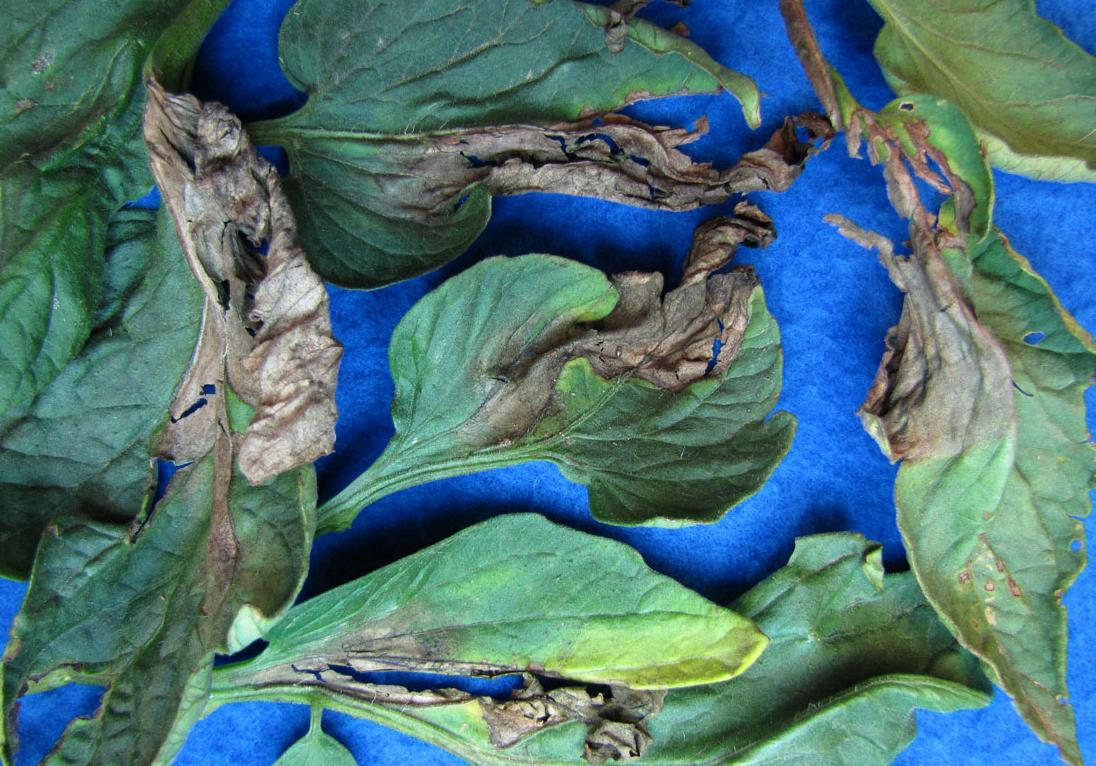Tomato leaf late blight: (0, 157, 347, 766), (207, 0, 805, 297), (834, 129, 1096, 766), (203, 519, 742, 766), (339, 254, 810, 534)
